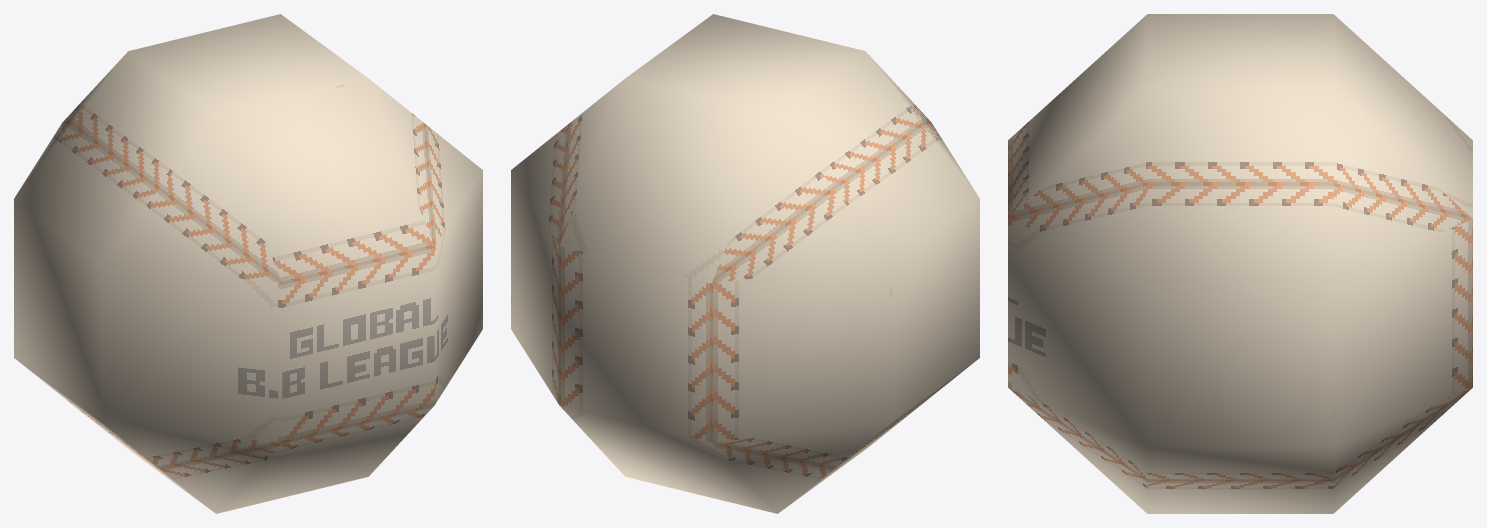
File: 0013_Baseball.glb
3 views of the same model, side by side, from view 1: azimuth 30°, elevation 25°; view 2: azimuth 150°, elevation 25°; view 3: azimuth 270°, elevation 25° (orthographic). The views are drawn at different scales.
Parts seen in each view (by area): view 1: part_0; view 2: part_0; view 3: part_0.
Boxes of the visible parts, x1,y1,x2,y2 form: part_0: (14, 14, 482, 513); part_0: (511, 14, 979, 513); part_0: (1008, 14, 1472, 513).
Bounding box in the file's own units: 0.084 × 0.084 × 0.084.
1 material, 1 textured.
